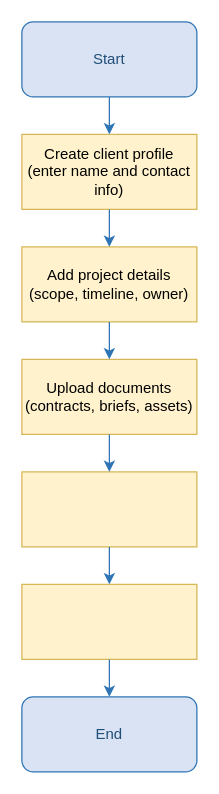
Some shapes in this 219 by 794 pixel diagram are drawn without their labels. Here are the shapes that lost their labels. From the top down, the box of each, then its label:
(21, 471, 197, 547): Set access permissions (assign team roles)
(21, 583, 197, 659): Confirm and save (directory is created)
